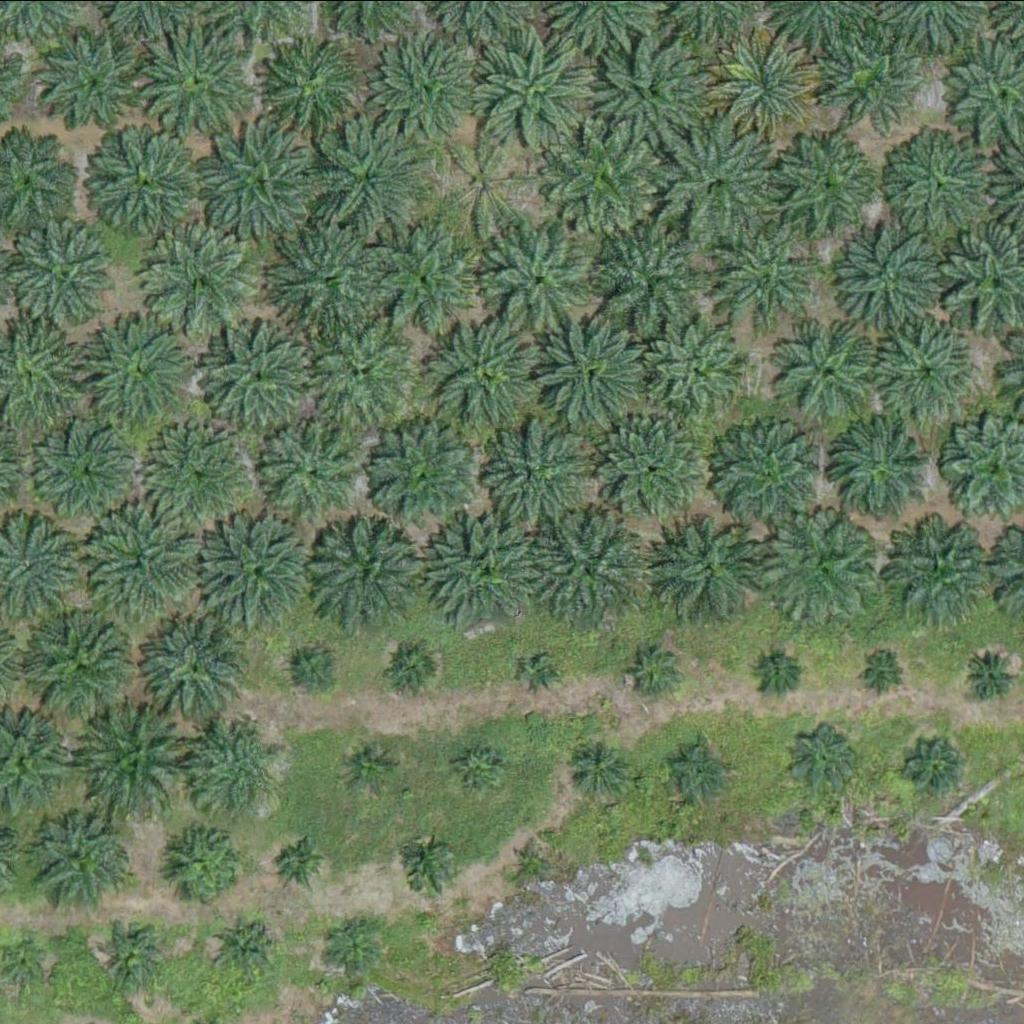Kelapa_Sawit: (82, 302, 208, 427), (190, 317, 316, 442), (84, 500, 198, 613), (139, 26, 253, 139), (770, 507, 884, 620), (39, 17, 152, 130), (85, 124, 198, 237), (140, 614, 253, 727), (429, 510, 542, 623), (531, 509, 644, 622), (646, 509, 759, 622), (140, 422, 253, 535), (301, 313, 414, 426), (594, 226, 707, 339), (486, 218, 599, 331), (369, 222, 482, 335), (271, 228, 384, 341), (547, 122, 660, 235), (712, 28, 825, 141), (665, 126, 778, 239), (770, 130, 883, 243), (715, 417, 828, 530), (28, 609, 142, 721), (84, 701, 198, 813), (140, 223, 254, 335), (200, 123, 314, 235), (377, 28, 491, 140), (889, 515, 1003, 627), (14, 214, 127, 326), (206, 513, 319, 625), (318, 513, 431, 625), (367, 416, 480, 528), (252, 409, 365, 521), (425, 311, 538, 423), (532, 315, 645, 427), (312, 121, 425, 233), (596, 36, 709, 148), (474, 35, 587, 147), (710, 219, 823, 331), (434, 132, 535, 232), (45, 422, 146, 522), (598, 412, 699, 512), (484, 416, 585, 516), (652, 315, 753, 415), (890, 133, 991, 233), (835, 226, 936, 326), (784, 318, 885, 418), (41, 813, 141, 913), (261, 37, 361, 137), (877, 317, 977, 417), (831, 413, 931, 513), (827, 36, 916, 123), (164, 824, 252, 911), (191, 724, 279, 811), (783, 718, 858, 793), (216, 913, 279, 976), (910, 734, 973, 797), (960, 644, 1023, 707), (106, 920, 169, 982), (570, 735, 633, 797), (667, 736, 730, 798), (268, 826, 331, 888), (627, 645, 678, 695), (751, 649, 802, 699), (335, 919, 385, 969), (399, 843, 449, 893), (455, 741, 505, 791), (346, 740, 396, 790), (859, 645, 909, 695), (287, 643, 337, 693), (390, 642, 440, 692), (513, 838, 551, 876), (522, 655, 560, 693)
